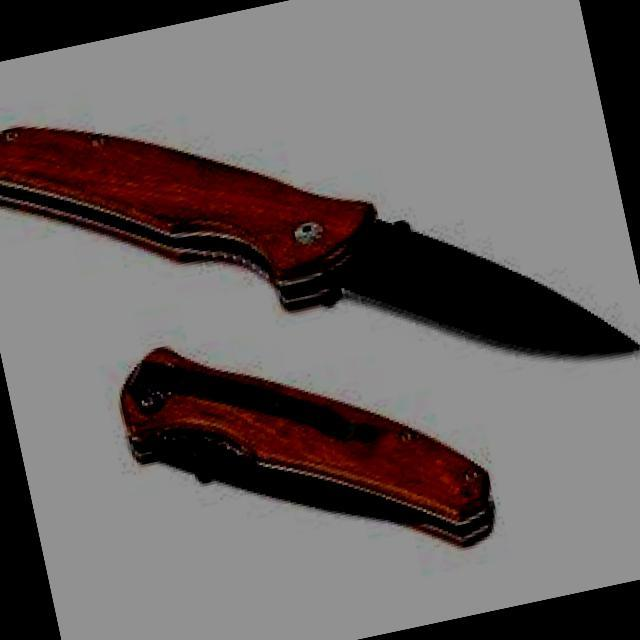Knife: (0, 0, 640, 505)
